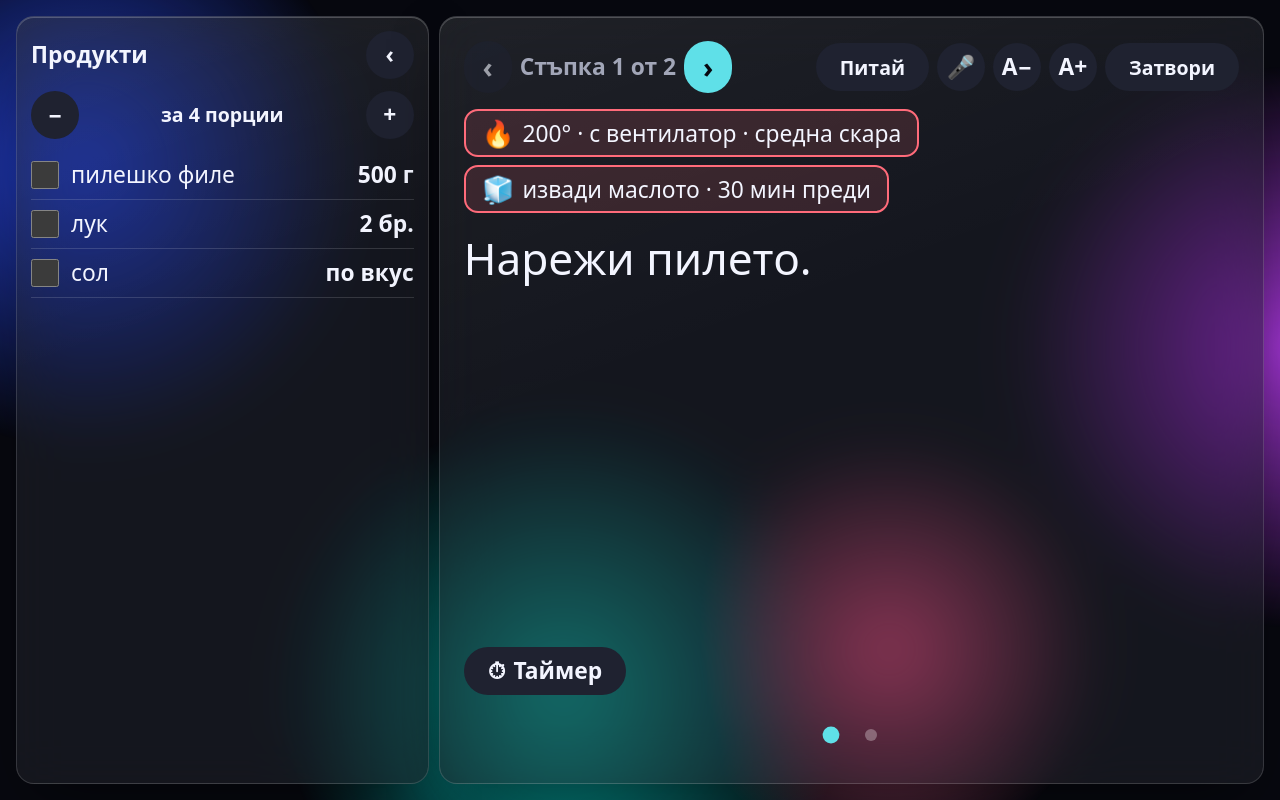
Scenario: Подготовка в Готвене › редът е на всяка стъпка
Click the button with aria-label "Фурна 200° · с вентилатор · средна скара" at (692, 133), box [464,109,919,157]
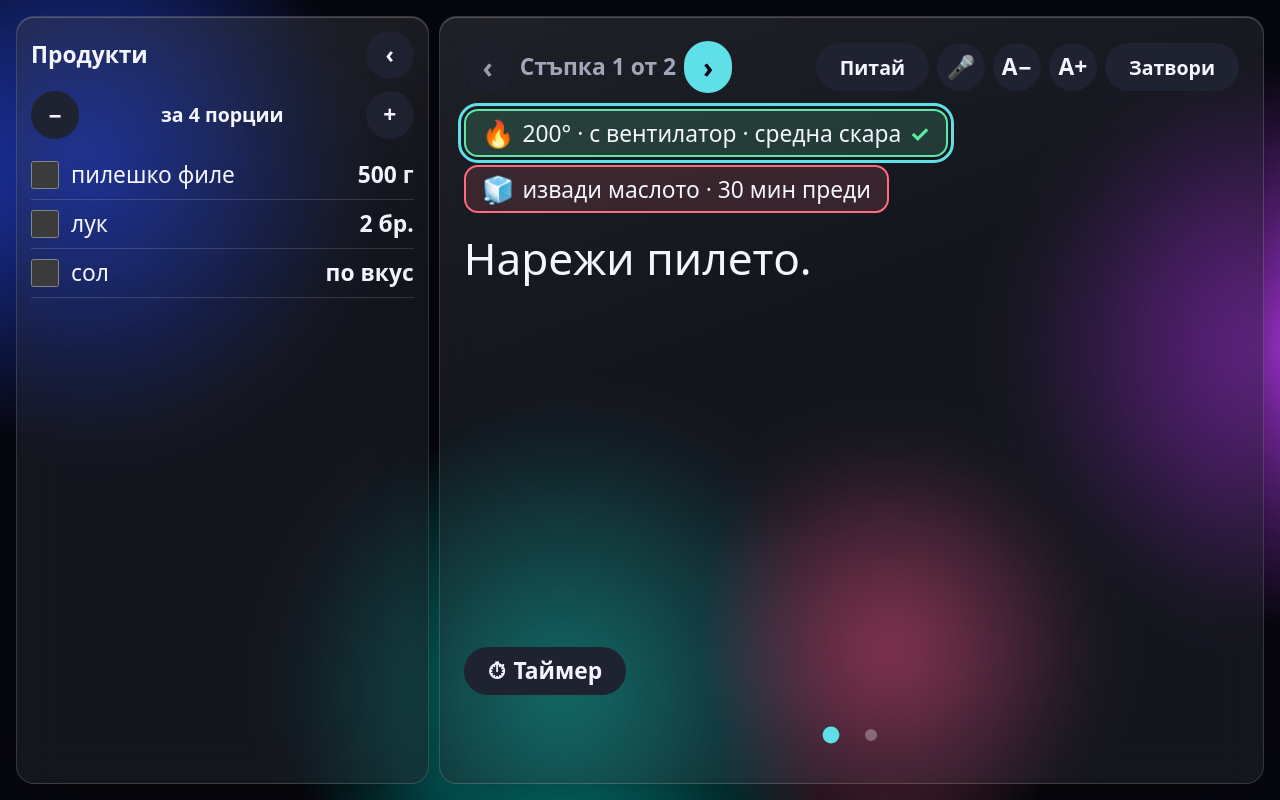
Click the button named "Напред" at (708, 67), box [684,41,732,93]
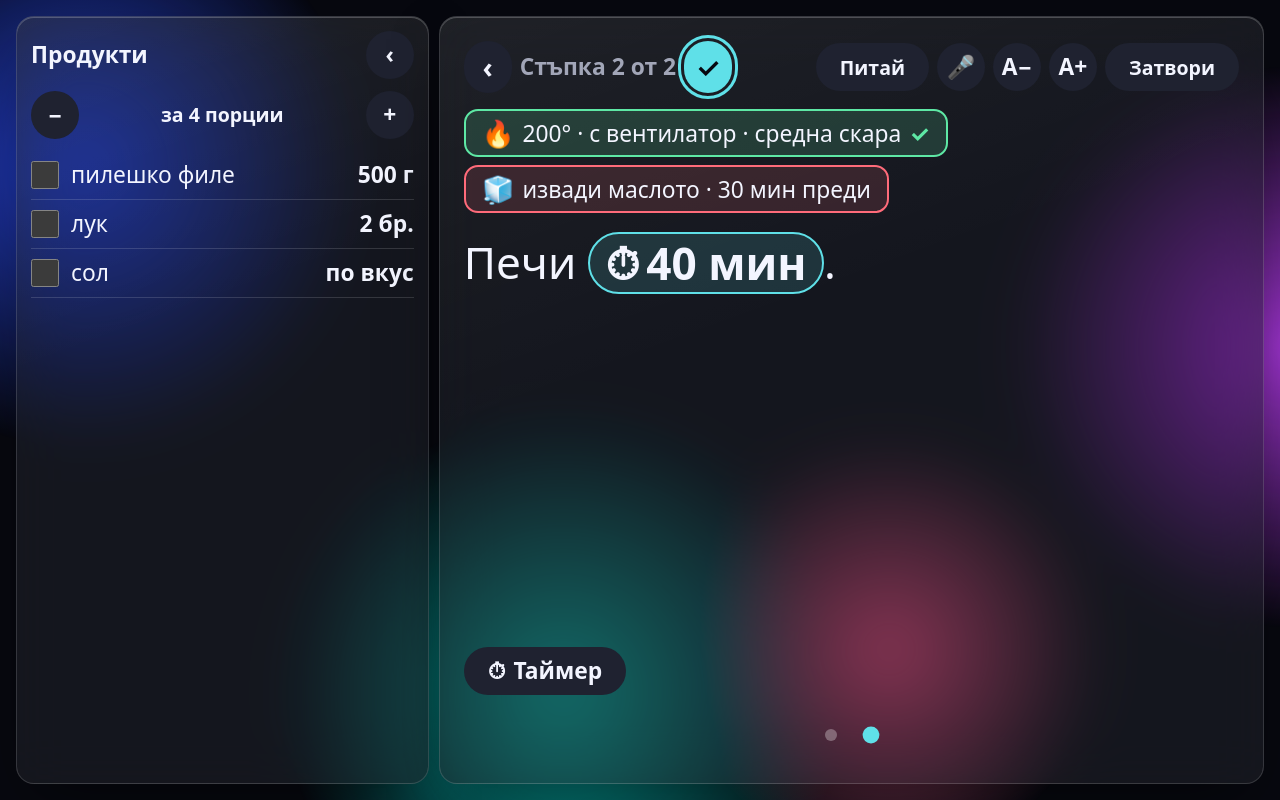
Expected: the text "Стъпка 2 от 2" is shown, [520,52,676,82]
